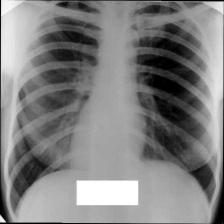tuberculosis: (2, 1, 224, 224)
